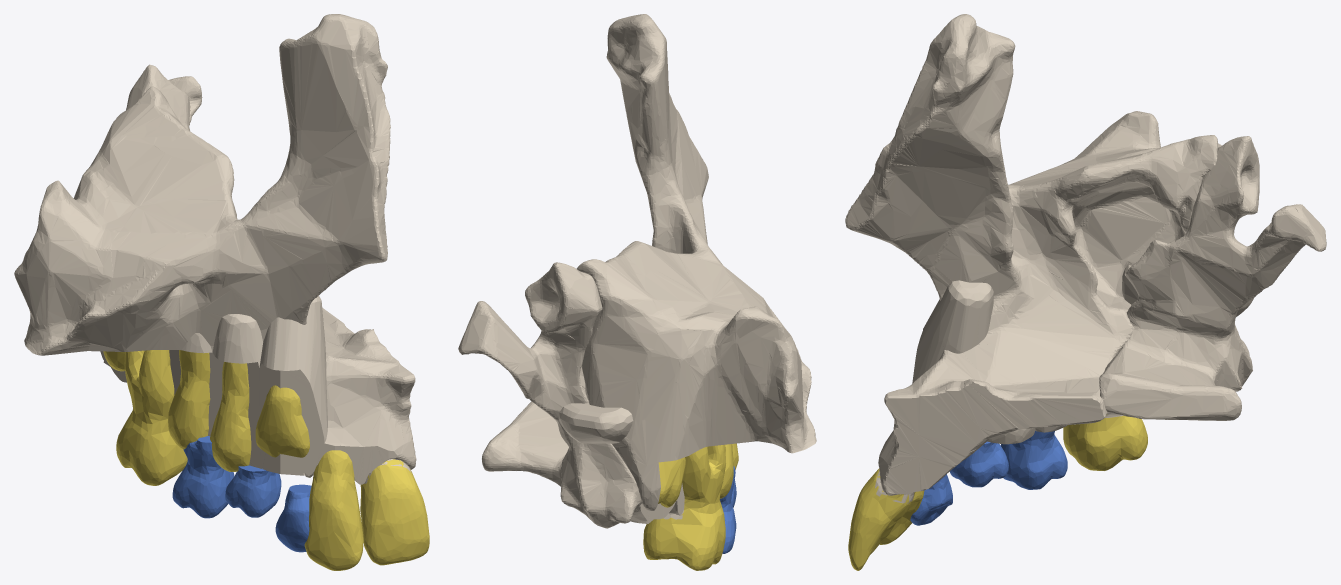
File: normal.glb
3 renders of one model, left to right at view 1: azimuth 30°, elevation 25°; view 2: azimuth 150°, elevation 25°; view 3: azimuth 270°, elevation 25°, orthographic. The views are drawn at different scales.
Visible parts, largest first — view 1: bone, teeth, baby-teeth, canine, baby-canine; view 2: bone, teeth, baby-teeth; view 3: bone, teeth, baby-teeth, baby-canine.
Boxes of the visible parts, left/top/right/bottom form: bone: left=14, top=14, right=416, bottom=484; teeth: left=103, top=350, right=429, bottom=570; baby-teeth: left=172, top=436, right=281, bottom=518; canine: left=255, top=385, right=309, bottom=457; baby-canine: left=275, top=484, right=311, bottom=552; bone: left=458, top=14, right=816, bottom=528; teeth: left=643, top=443, right=738, bottom=570; baby-teeth: left=720, top=466, right=736, bottom=553; bone: left=845, top=14, right=1326, bottom=503; teeth: left=848, top=414, right=1147, bottom=570; baby-teeth: left=949, top=431, right=1067, bottom=489; baby-canine: left=910, top=474, right=952, bottom=525.
Bounding box in the file's own units: 0.0451 × 0.0795 × 0.0637.
